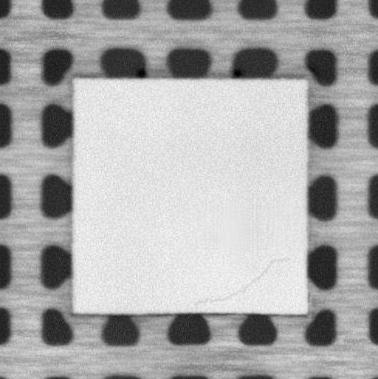DIE_CRACK: (199, 254, 291, 304)
